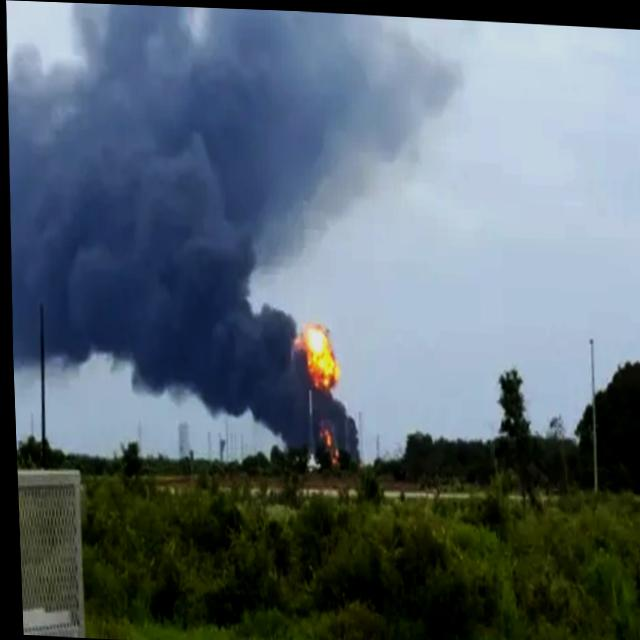Smoke: (0, 0, 438, 465)
